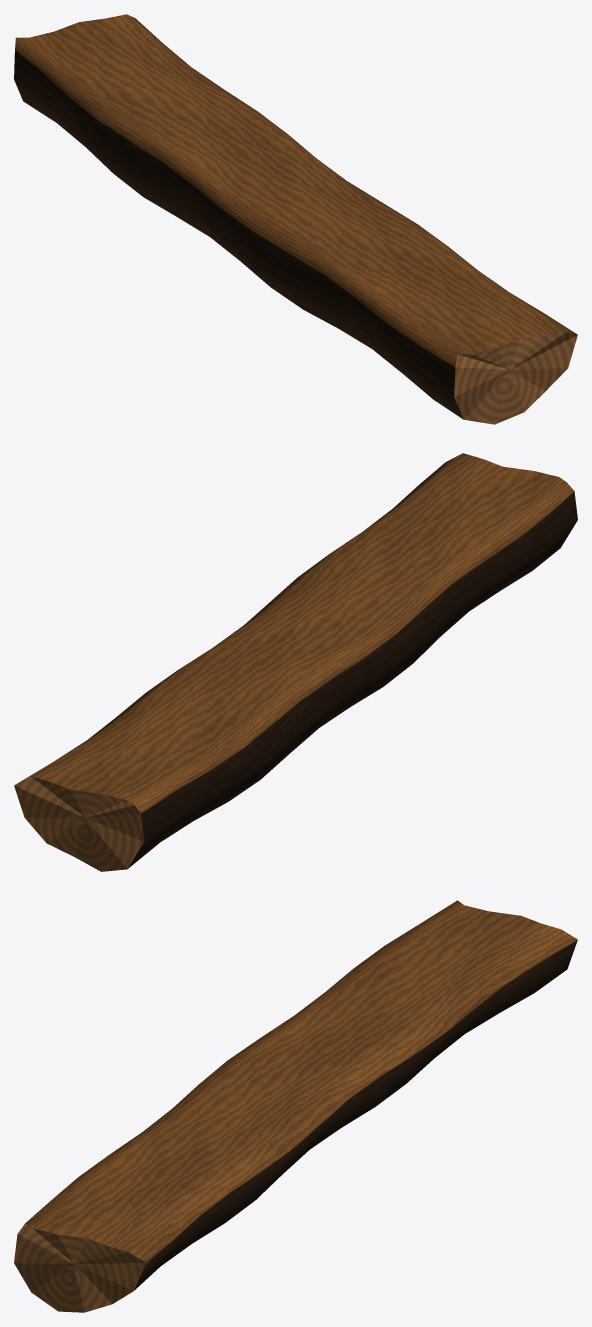
Rendered from SM_Firewood_02.fbx.
3 renders of one model, top to bottom at view 1: azimuth 30°, elevation 25°; view 2: azimuth 150°, elevation 25°; view 3: azimuth 330°, elevation 25°, orthographic.
Visible parts, largest first — view 1: Firewood_Mesh; view 2: Firewood_Mesh; view 3: Firewood_Mesh.
Part boxes in pixels (x1,y1,x2,y2): Firewood_Mesh: (14, 14, 577, 424); Firewood_Mesh: (14, 453, 577, 871); Firewood_Mesh: (14, 900, 577, 1312).
Bounding box in the file's own units: 0.0728 × 0.0383 × 0.3938.
Materials: 3 (3 with a texture image).
